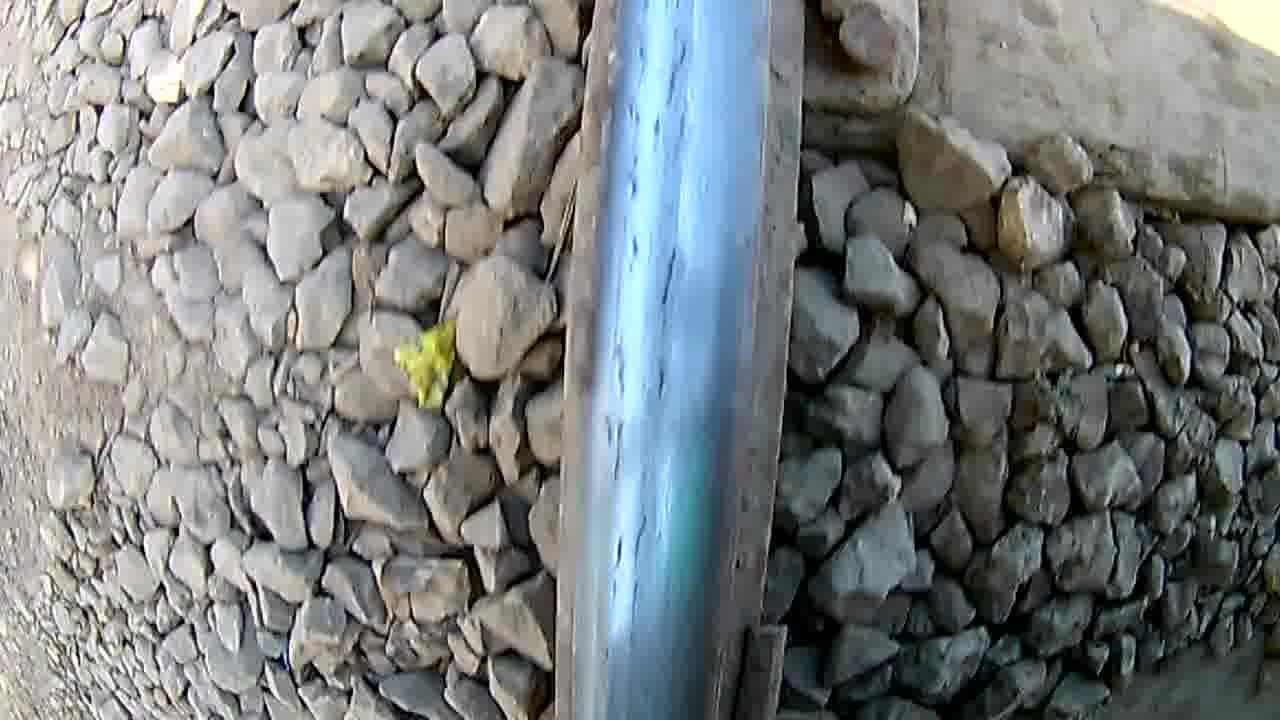normal_track: (600, 38, 700, 596)
